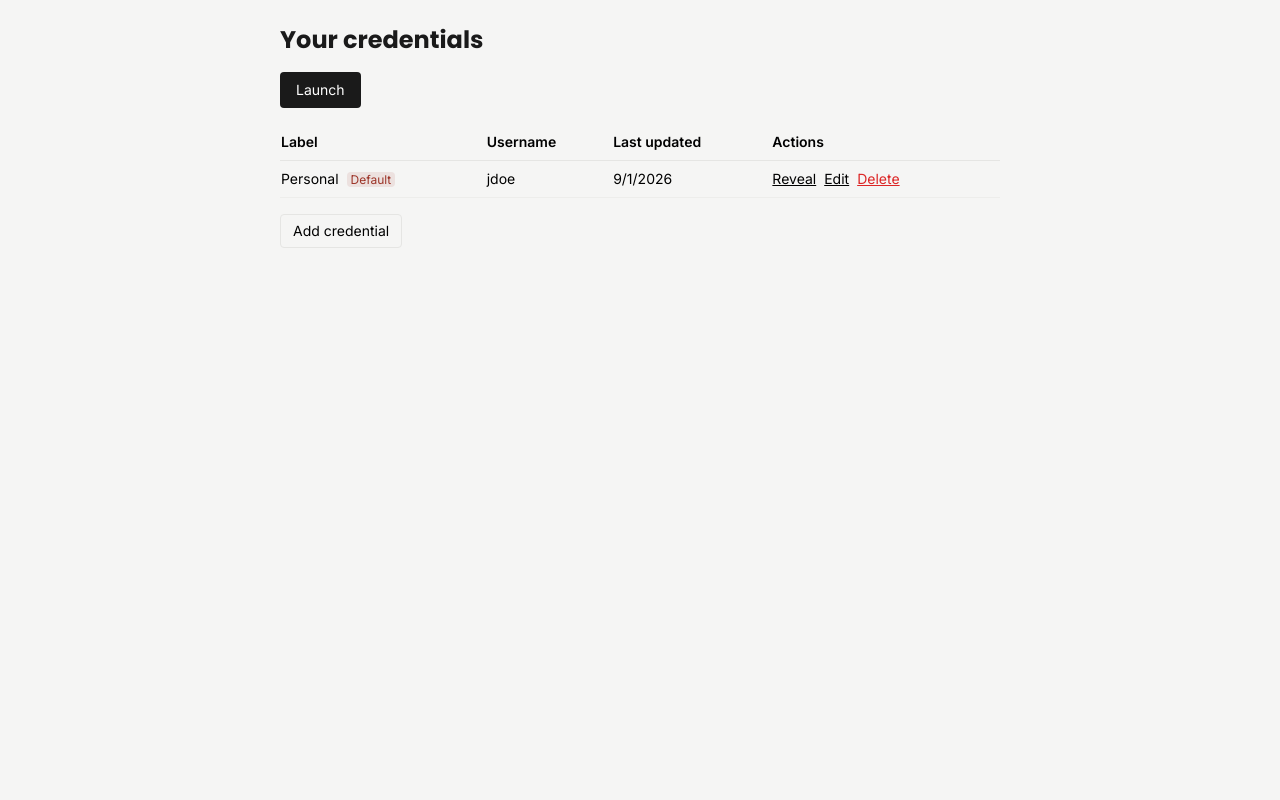
Test: Edit sends only the changed fields, re-auth-gated, then refetches
Click the button "Edit" at {"x": 837, "y": 179}, box top-left (824, 169), bottom-right (849, 189)
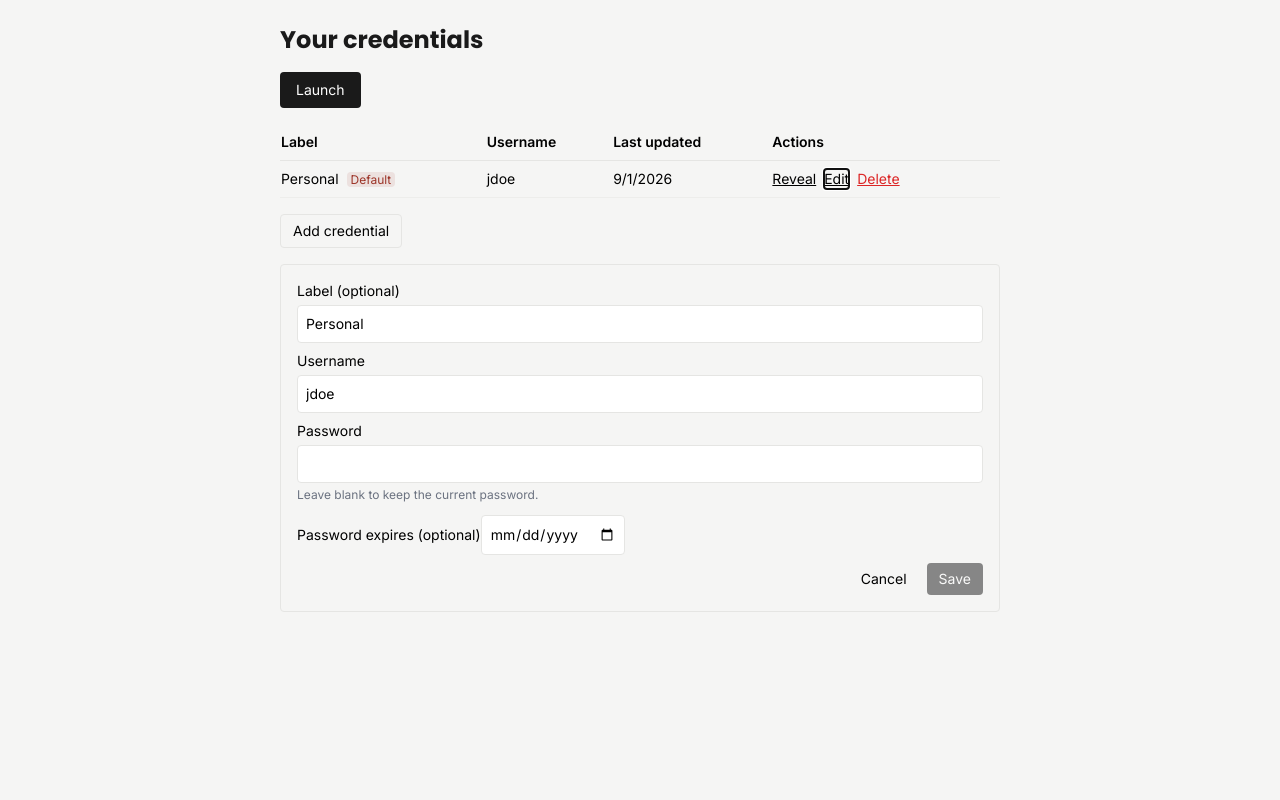
Replace the text in the field labelled "Label (optional)" with "Work" at {"x": 640, "y": 324}, box top-left (297, 305), bottom-right (983, 343)
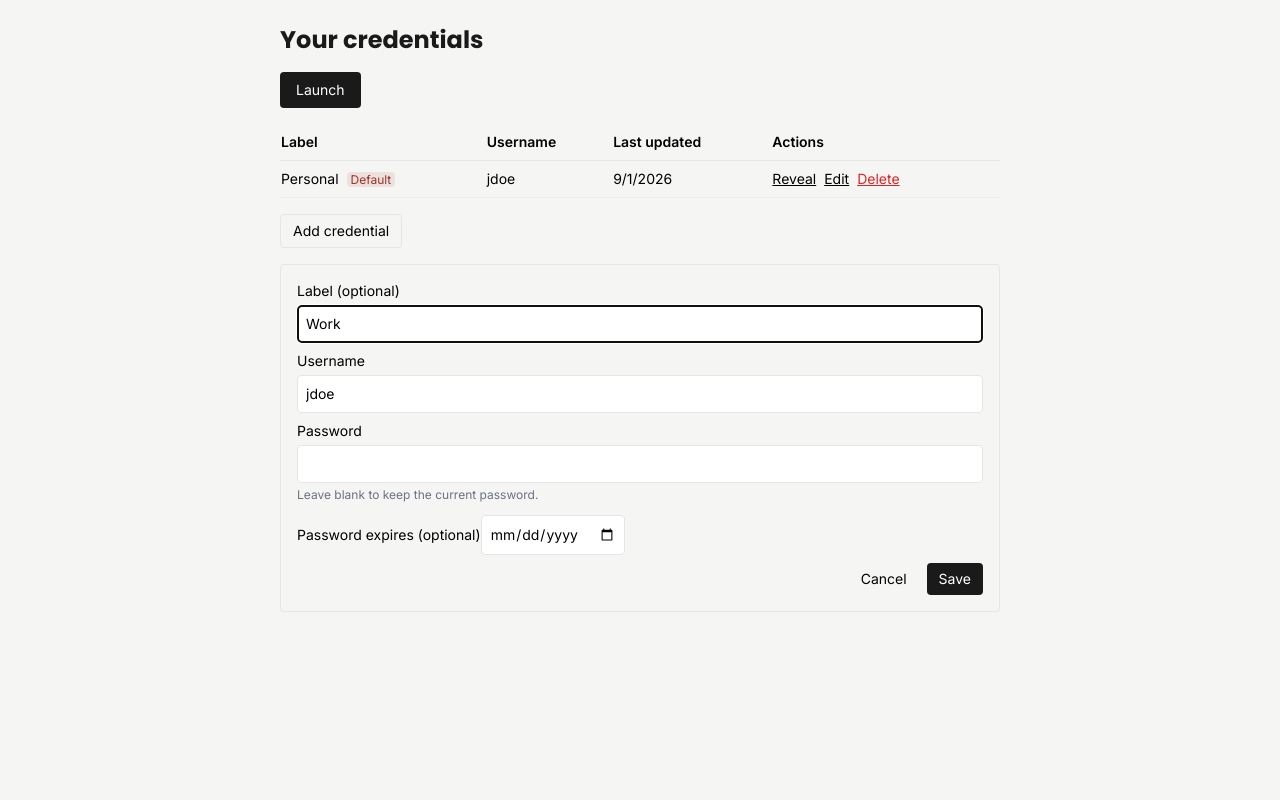
Click the button "Save" at {"x": 955, "y": 579}, box top-left (927, 563), bottom-right (983, 595)
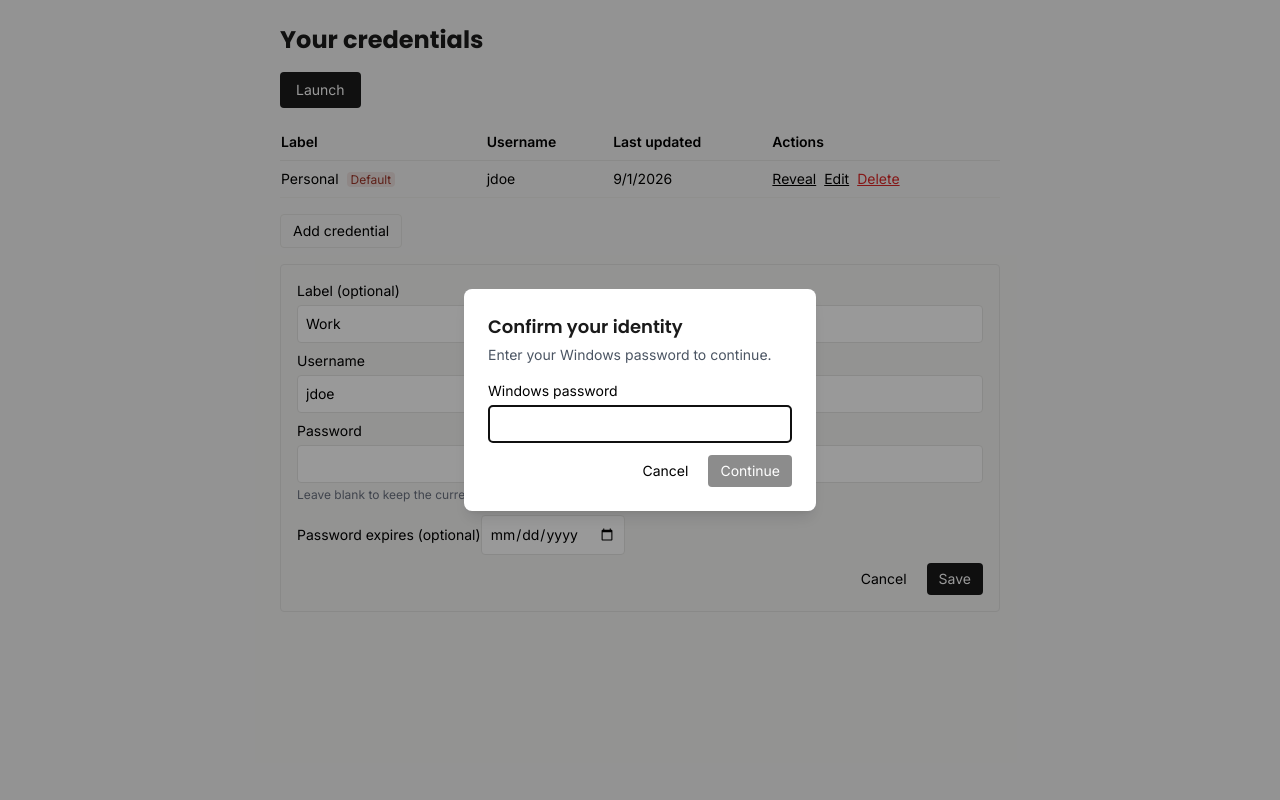
Type "pw" into the password field labelled "Windows password" at {"x": 640, "y": 424}, box top-left (488, 405), bottom-right (792, 443)
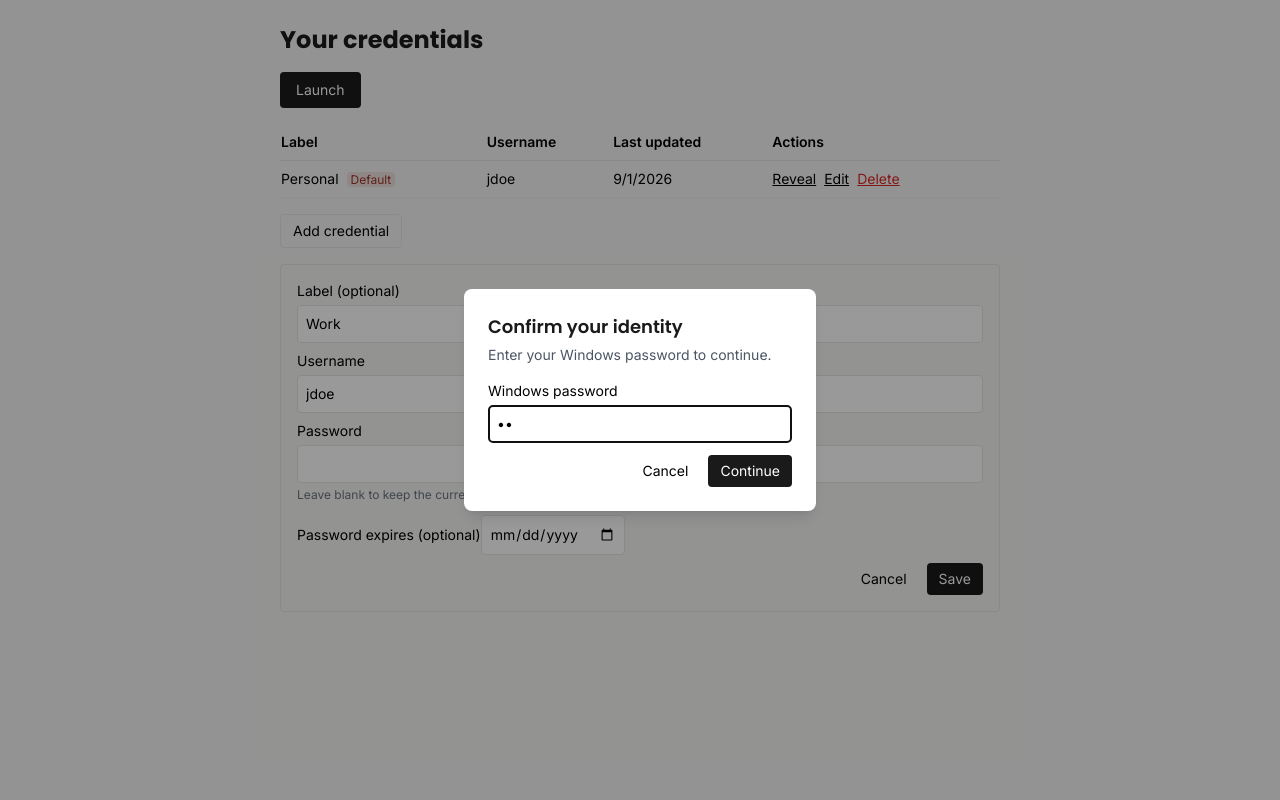
Click the button "Continue" at {"x": 750, "y": 471}, box top-left (708, 455), bottom-right (792, 487)
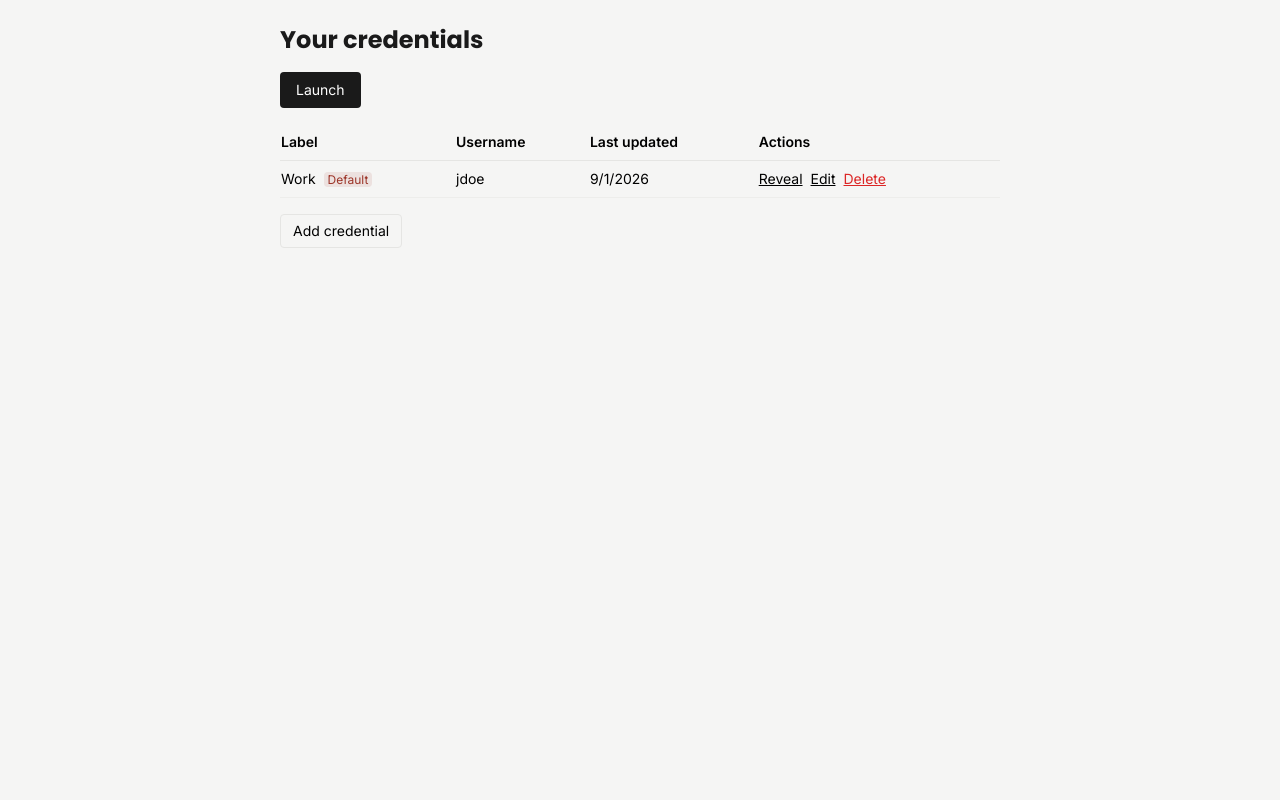
Expected: the row "Work Default jdoe 9/1/2026 Reveal Edit Delete" is shown, top-left (280, 160), bottom-right (1000, 198)
